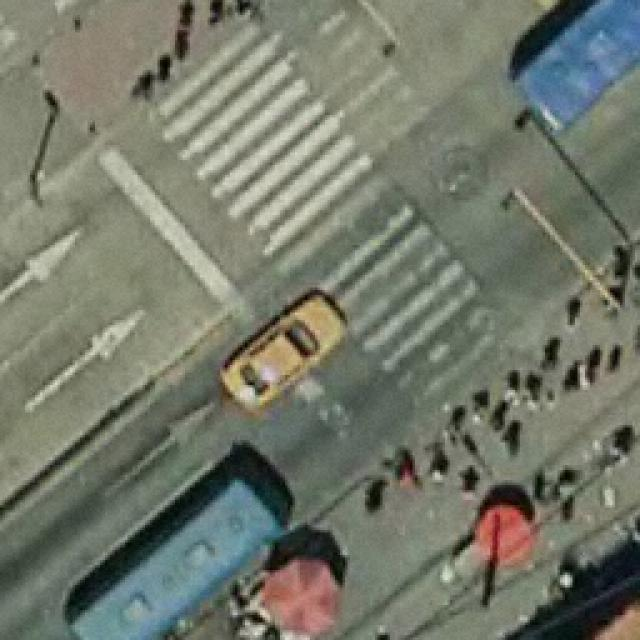vendedor_ambulante: (255, 552, 345, 640), (468, 499, 538, 566)
